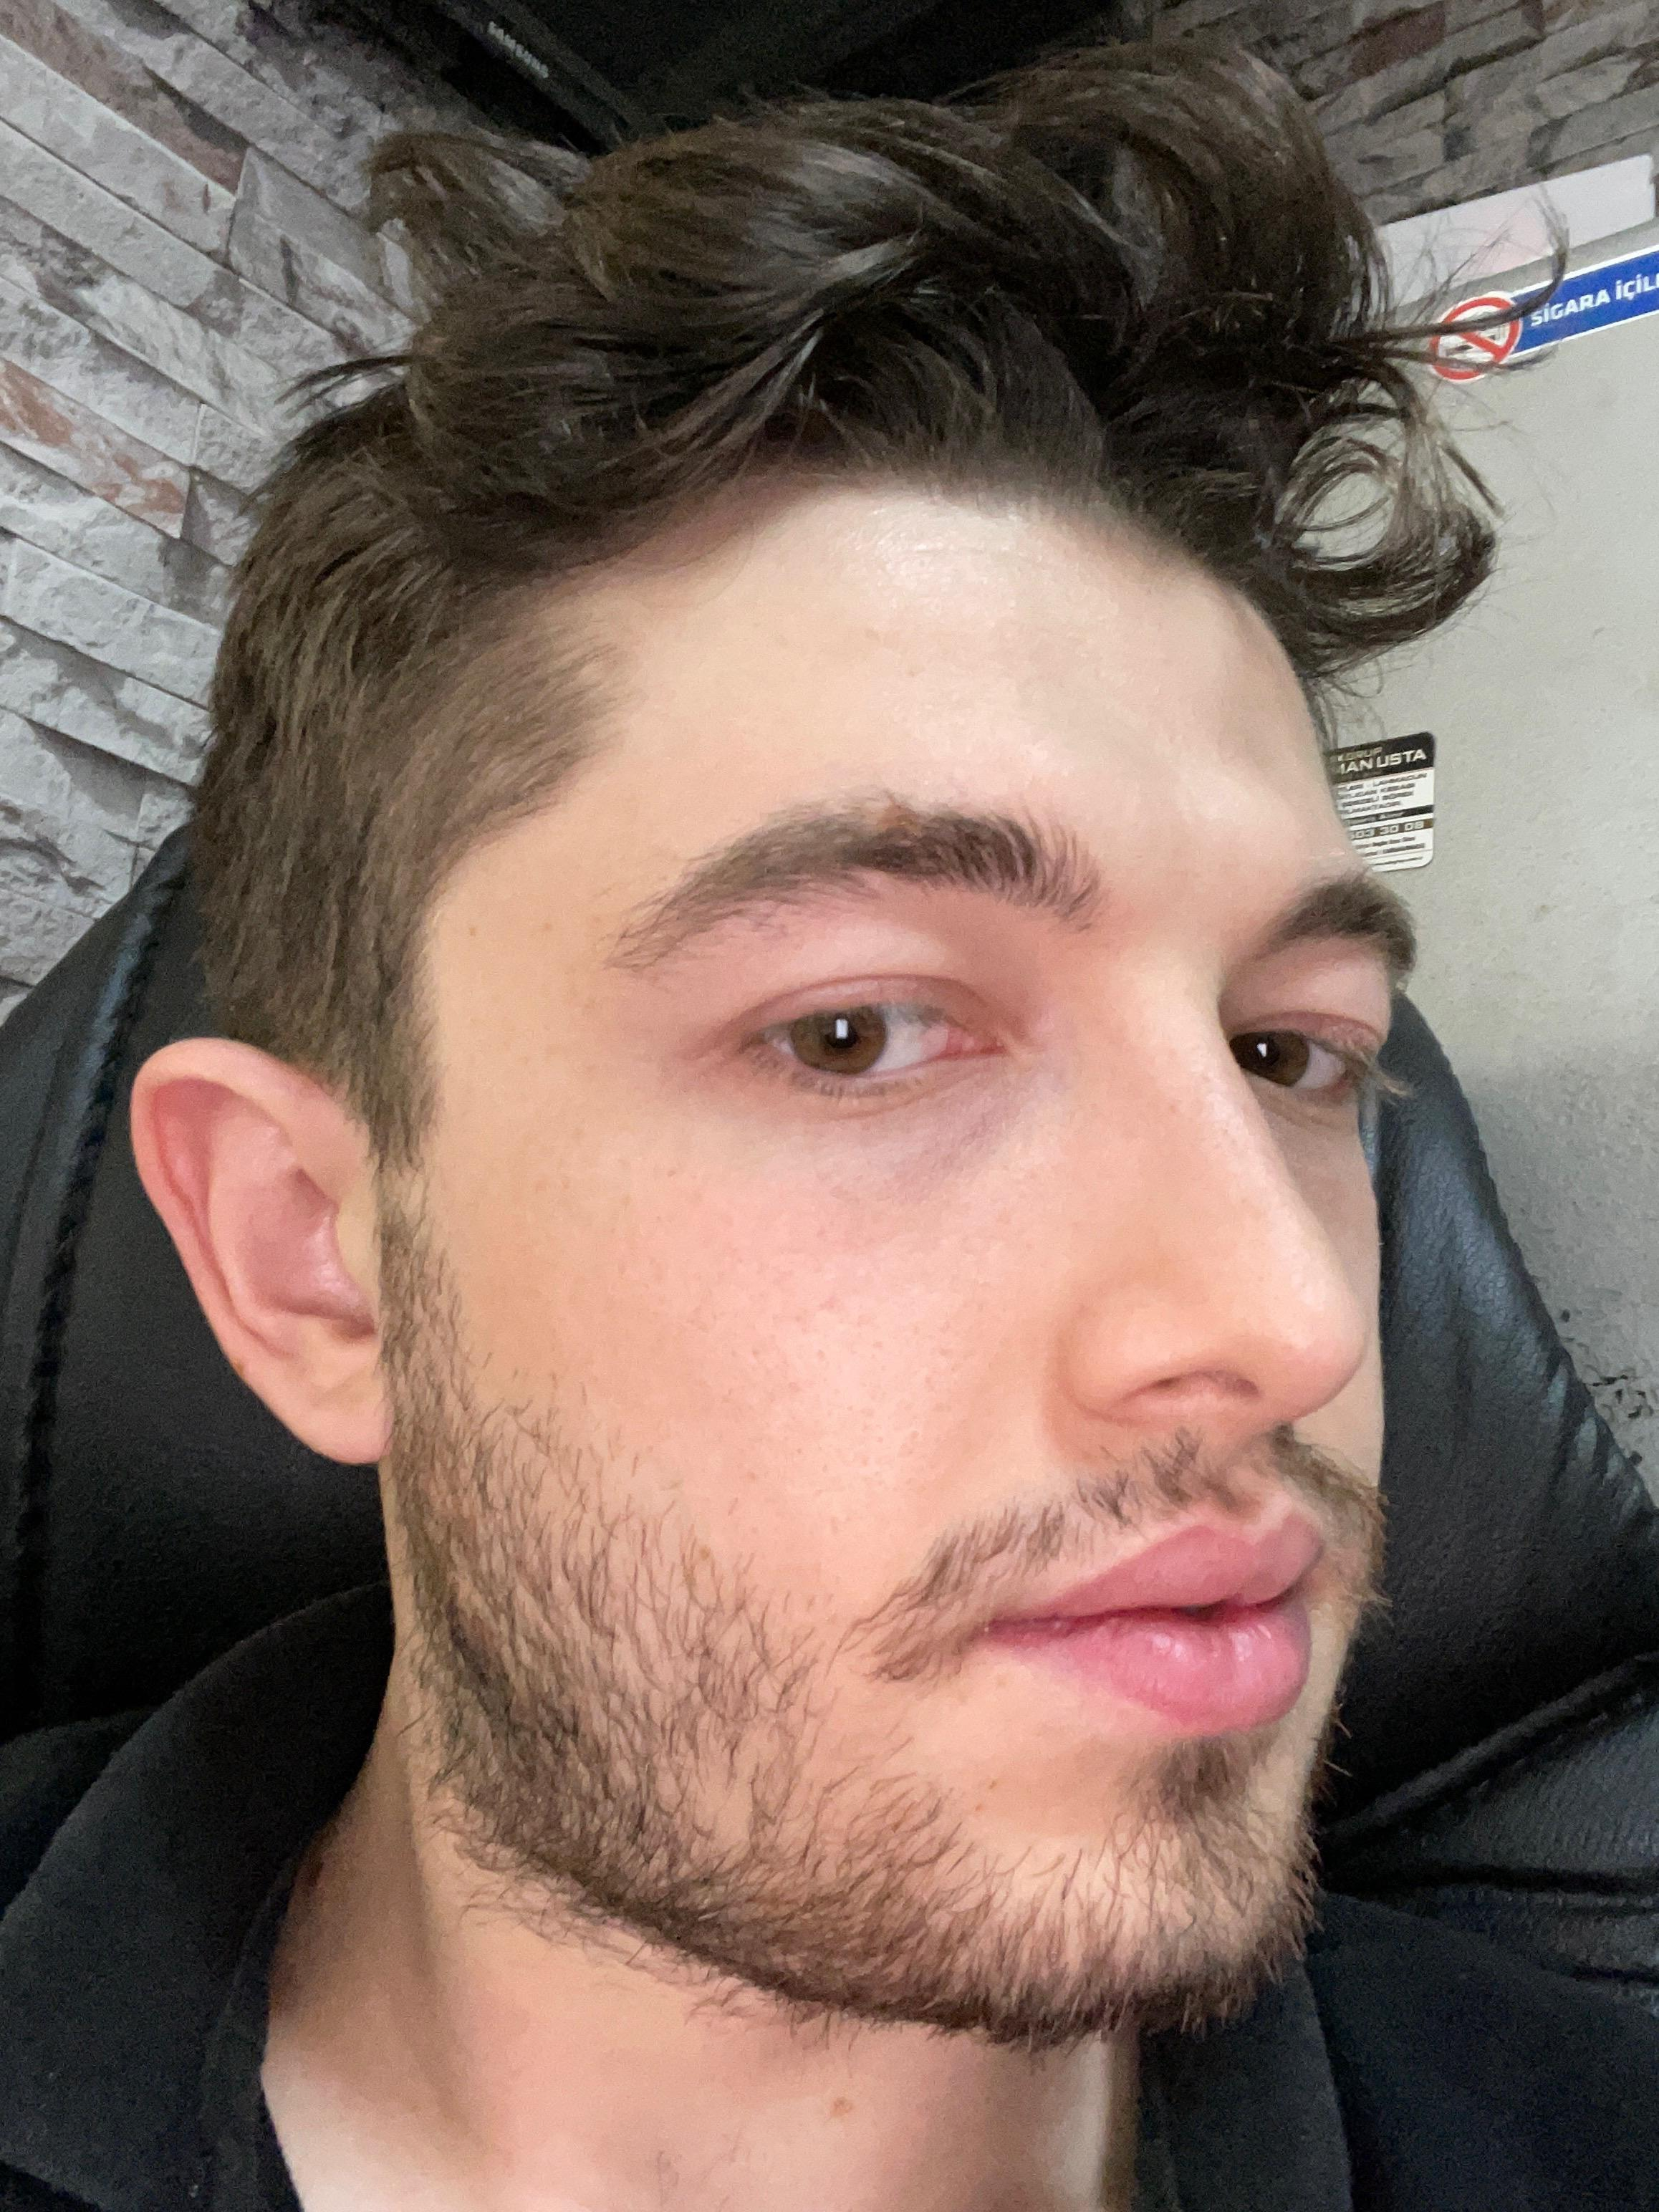Englarged-Pores: (725, 1249, 950, 1524)
Eyebags: (685, 1045, 1053, 1200)
Wrinkles: (904, 543, 1058, 573)
